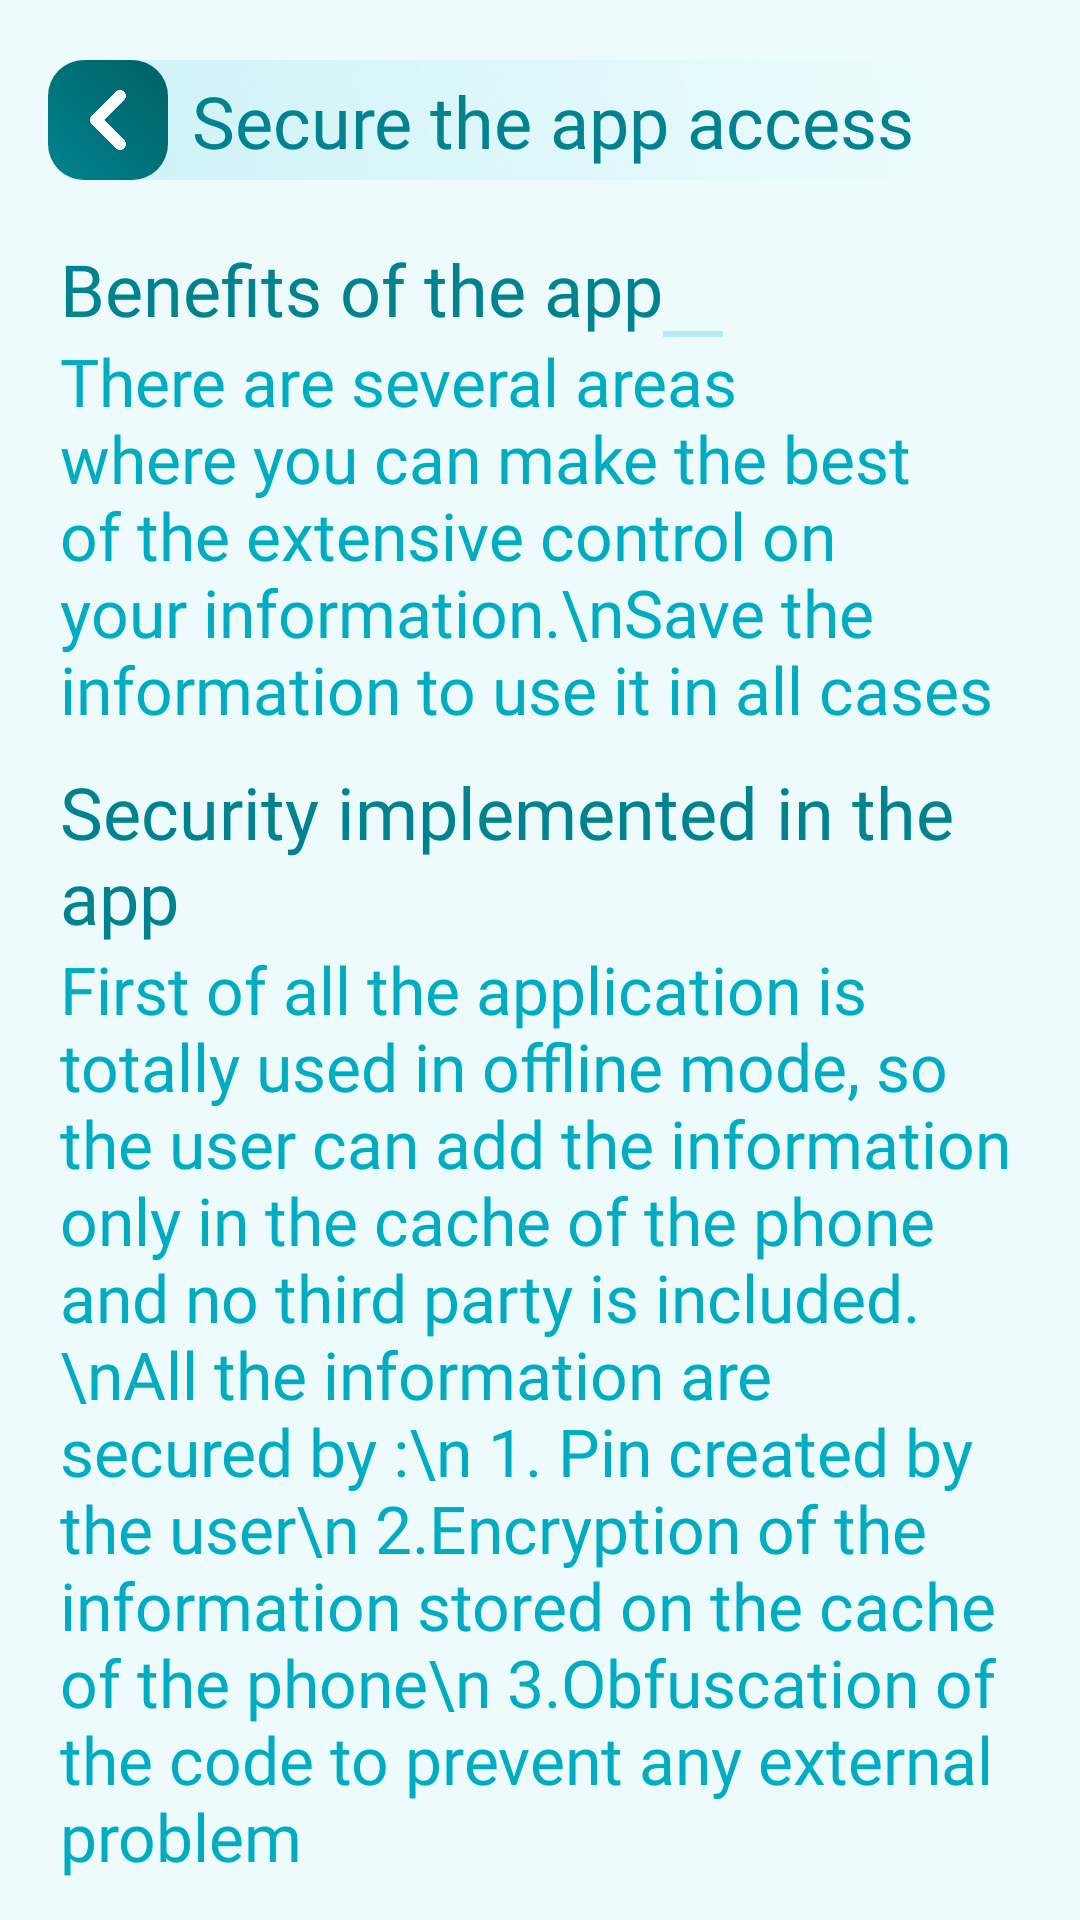

Point at icon controls on the screen. Image size 1080 x 1920, points as (x,y).
back: (108,120)
